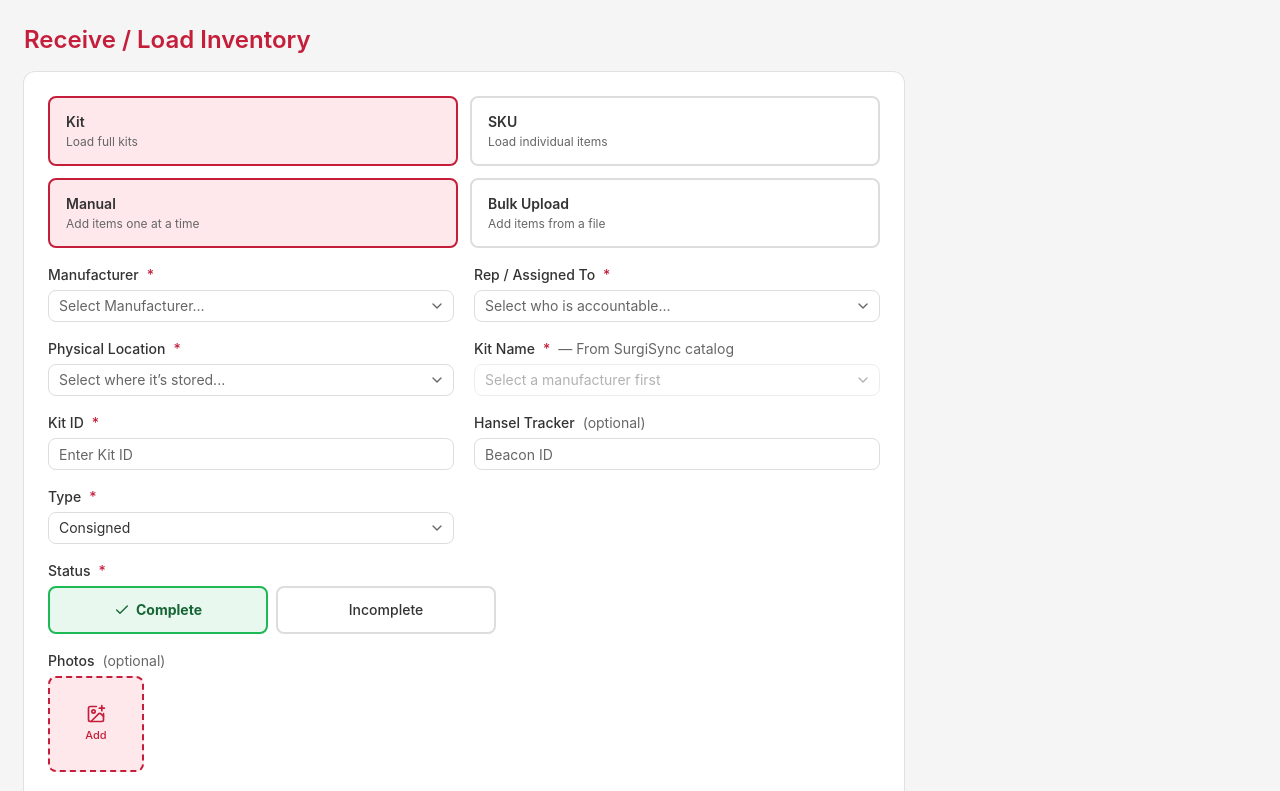
ReceiveScreen › replaces the form with a placeholder for Bulk Upload
What coordinates should you click on to do the following:
click the radio button labelled "Bulk Upload Add items from a file"
I would click on:
 (529, 204)
Its box is [470, 178, 880, 248].
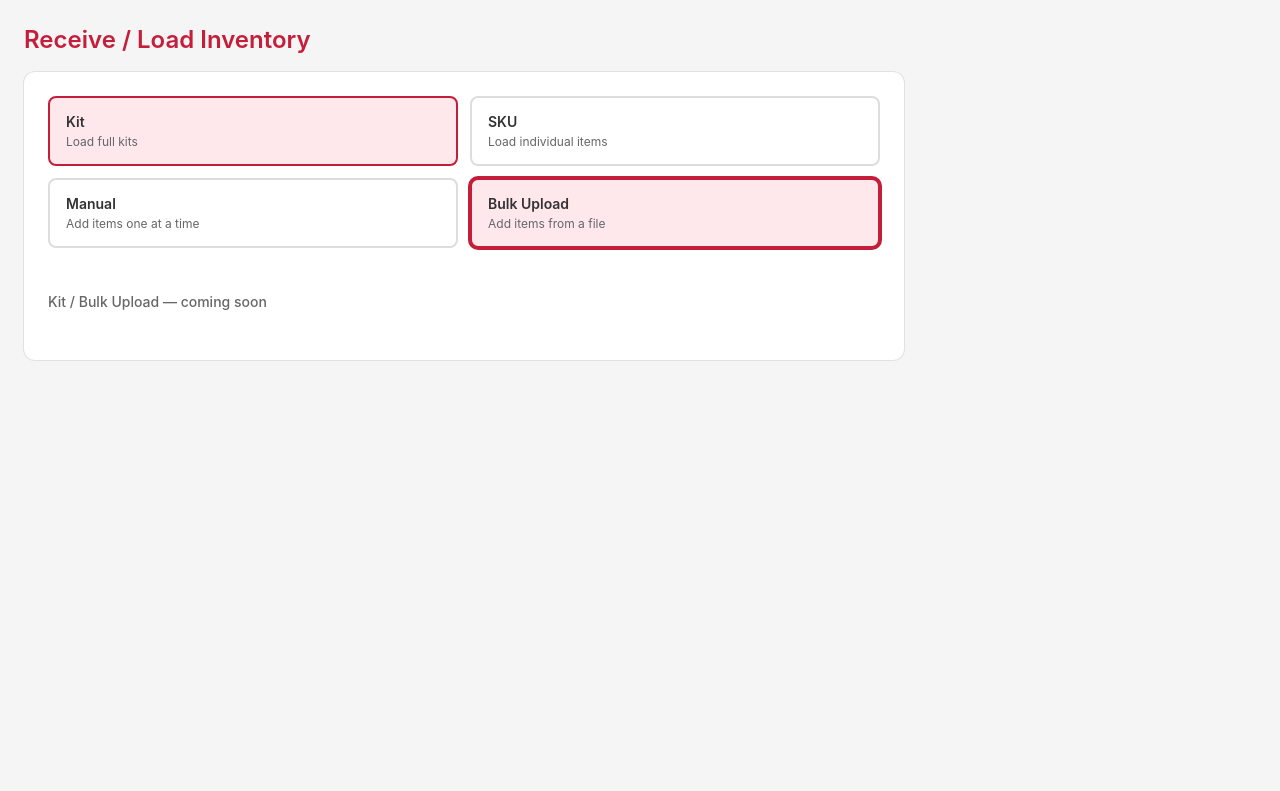
Expected: the text "Kit / Bulk Upload — coming soon" is shown, [48, 293, 267, 310]
